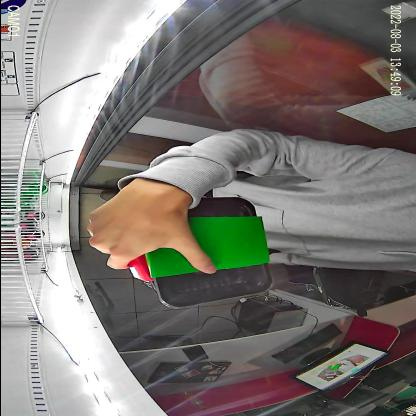green: (145, 196, 273, 310)
red: (127, 254, 156, 295)
